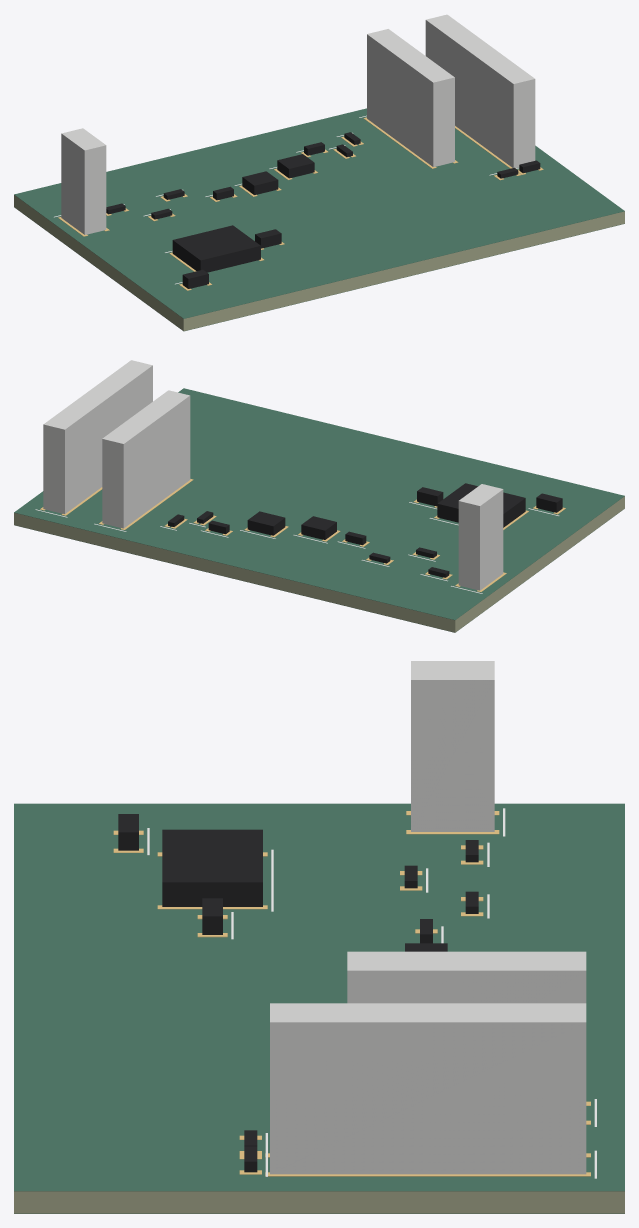
Rendered from board.glb.
The picture shows the model from 3 angles, top to bottom: view 1: azimuth 30°, elevation 25°; view 2: azimuth 150°, elevation 25°; view 3: azimuth 270°, elevation 25°; orthographic projection. The views are drawn at different scales.
Parts seen in each view (by area): view 1: mask_top, J2, J3, board, J1, U1, U2, D1, mask_bot; view 2: mask_top, J3, J2, board, J1, U1, U2, D1, mask_bot, C3, C4; view 3: mask_top, J2, J1, board, J3, U1, J2_pad2, C3, C4.
Boxes of the visible parts, bbox=[...] form: mask_top: bbox=[14, 108, 624, 318]; J2: bbox=[425, 14, 535, 167]; J3: bbox=[367, 29, 454, 166]; board: bbox=[14, 195, 624, 330]; J1: bbox=[61, 128, 106, 234]; U1: bbox=[172, 225, 260, 272]; U2: bbox=[277, 154, 314, 178]; D1: bbox=[242, 171, 278, 194]; mask_bot: bbox=[14, 207, 624, 331]; mask_top: bbox=[14, 388, 624, 620]; J3: bbox=[102, 390, 190, 528]; J2: bbox=[43, 360, 152, 513]; board: bbox=[14, 496, 624, 632]; J1: bbox=[458, 484, 503, 590]; U1: bbox=[437, 483, 525, 527]; U2: bbox=[247, 511, 285, 535]; D1: bbox=[301, 516, 336, 539]; mask_bot: bbox=[15, 509, 623, 632]; C3: bbox=[536, 493, 562, 512]; C4: bbox=[417, 487, 443, 506]; mask_top: bbox=[14, 803, 624, 1191]; J2: bbox=[270, 1003, 586, 1174]; J1: bbox=[411, 661, 494, 831]; board: bbox=[14, 1191, 624, 1213]; J3: bbox=[347, 951, 586, 1003]; U1: bbox=[162, 829, 262, 906]; J2_pad2: bbox=[265, 1172, 590, 1176]; C3: bbox=[118, 814, 138, 850]; C4: bbox=[202, 898, 222, 934].
Bounding box in the file's own units: 0.06 × 0.0127 × 0.04.
